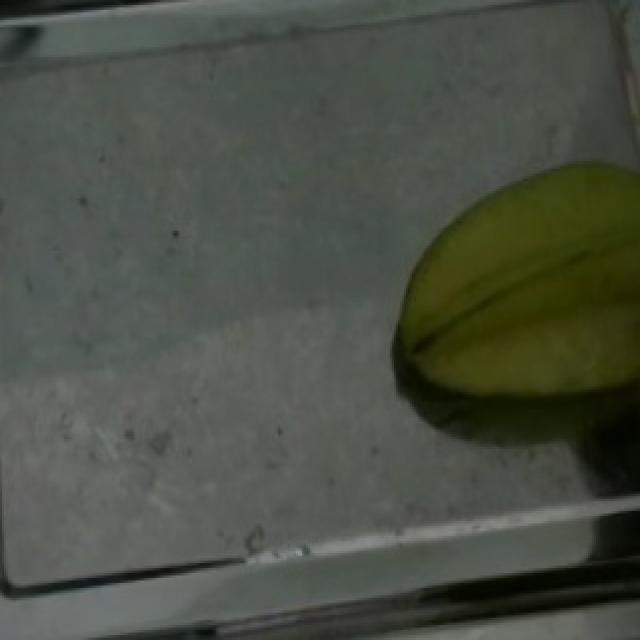fruit: (372, 137, 640, 439)
